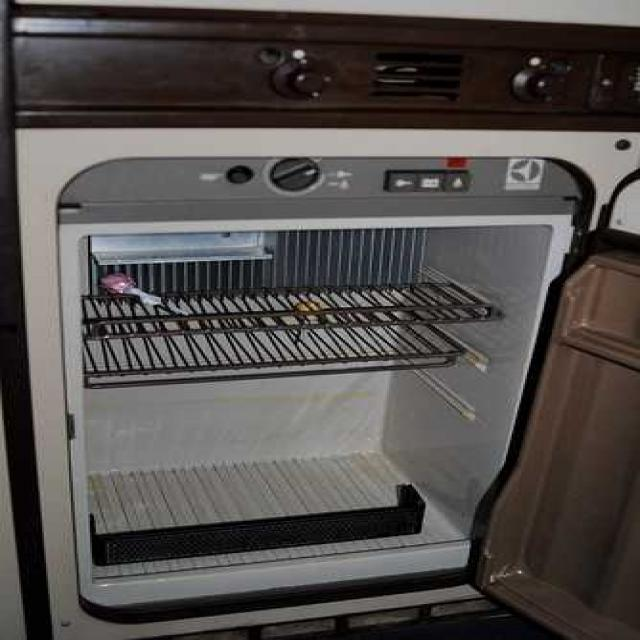refrigerator: (10, 108, 640, 638)
